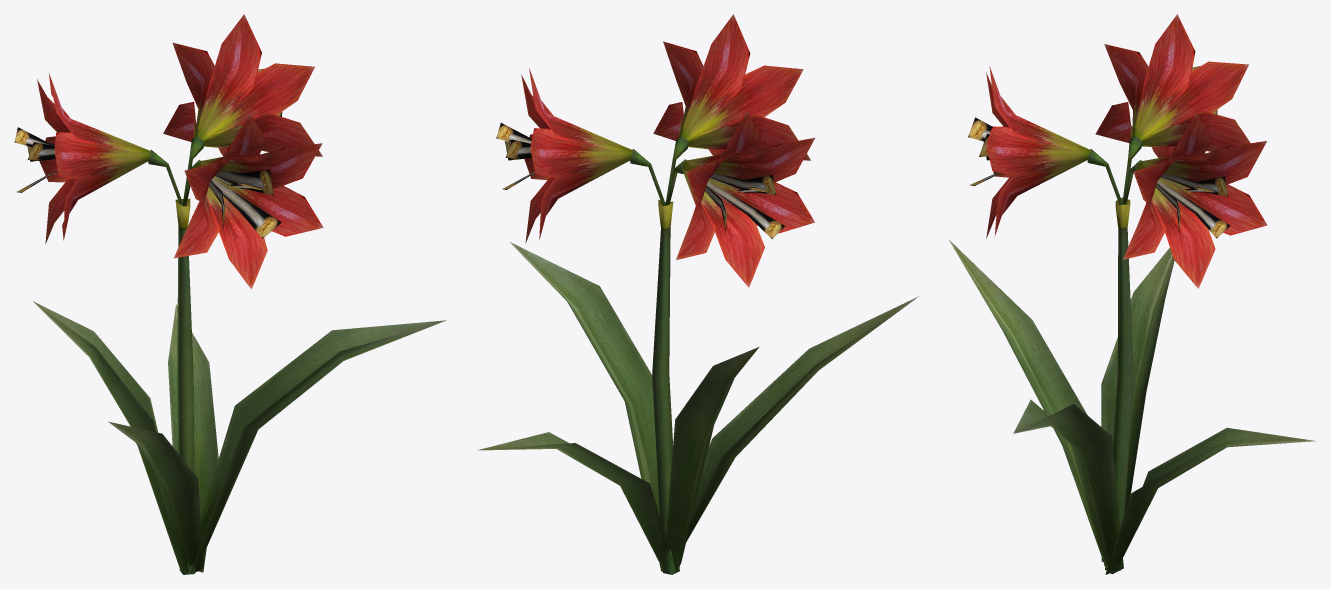
File: Hippeastrum.FBX
3 renders of one model, left to right at view 1: azimuth 30°, elevation 25°; view 2: azimuth 150°, elevation 25°; view 3: azimuth 270°, elevation 25°, orthographic.
Visible parts, largest first — view 1: Hippeastrum; view 2: Hippeastrum; view 3: Hippeastrum.
Boxes of the visible parts, x1,y1,x2,y2 form: Hippeastrum: [14, 14, 446, 574]; Hippeastrum: [477, 14, 918, 574]; Hippeastrum: [948, 14, 1315, 574].
Size of the model in its own units: 61.9 by 80.34 by 53.05.
